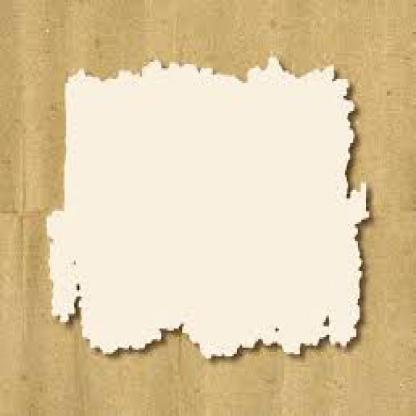CARDBOARD: (0, 0, 415, 415), (45, 60, 368, 362)
